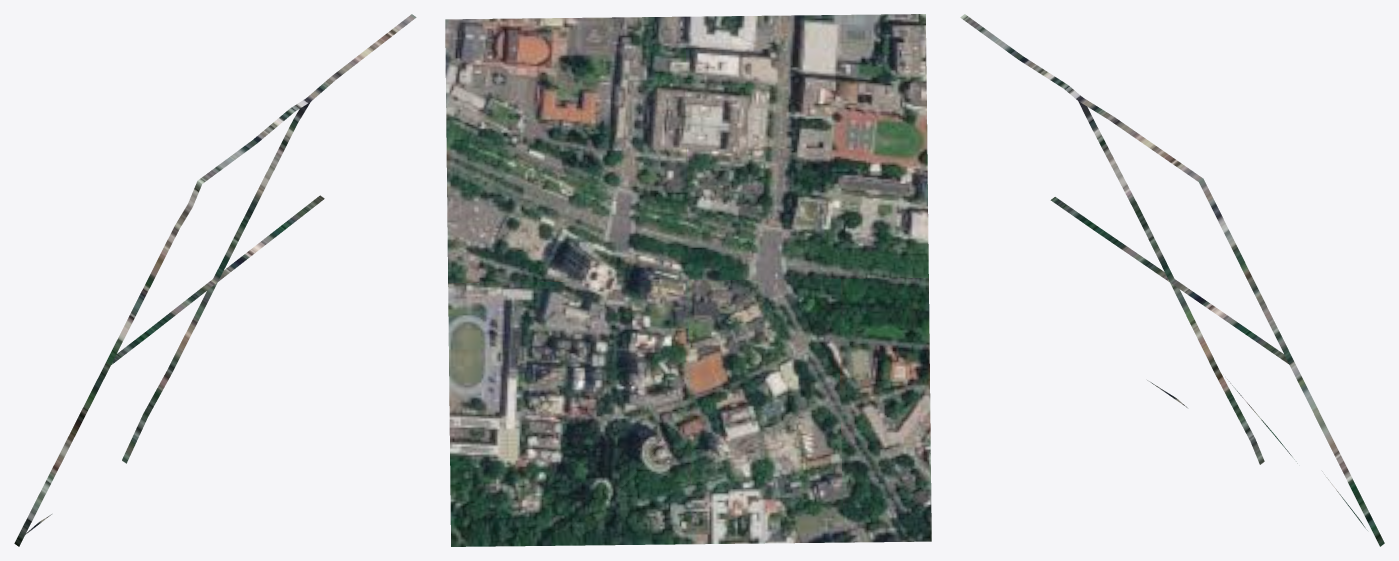
3 renders of one model, left to right at view 1: azimuth 30°, elevation 25°; view 2: azimuth 150°, elevation 25°; view 3: azimuth 270°, elevation 25°, orthographic. The views are drawn at different scales.
Size of the model in its own units: 611 by 555 by 515.
Materials: 1 (1 with a texture image).
